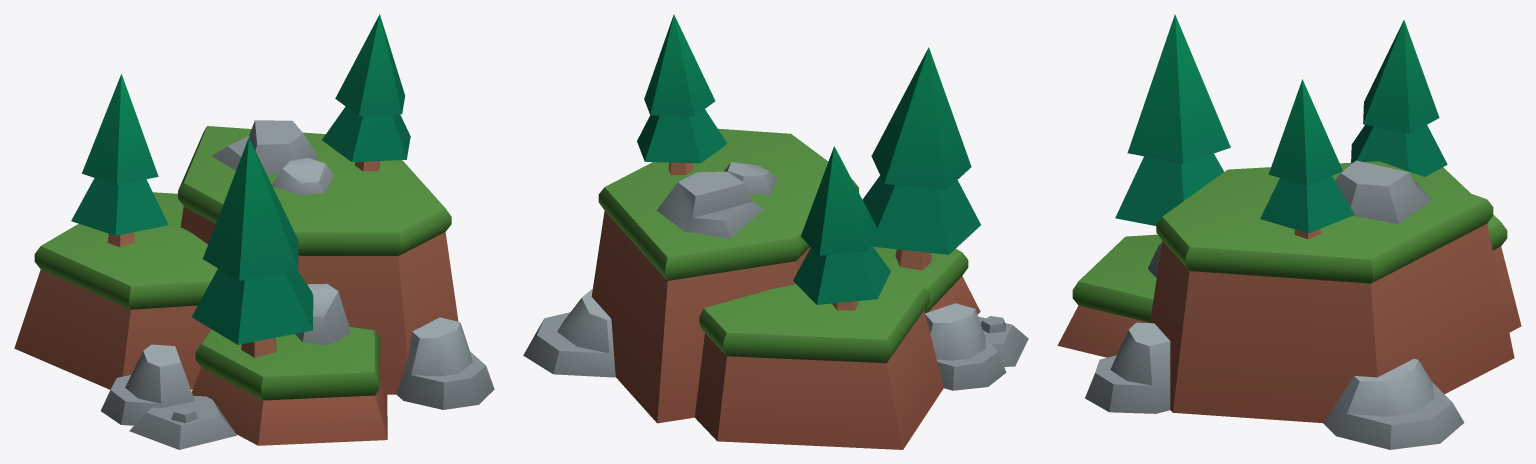
Rendered from hill_treed.glb.
3 views of the same model, side by side, from view 1: azimuth 30°, elevation 25°; view 2: azimuth 150°, elevation 25°; view 3: azimuth 270°, elevation 25° (orthographic). The views are drawn at different scales.
Parts seen in each view (by area): view 1: hill_treed; view 2: hill_treed; view 3: hill_treed.
Boxes of the visible parts, left/top/right/bottom form: hill_treed: left=14, top=14, right=494, bottom=449; hill_treed: left=523, top=14, right=1028, bottom=449; hill_treed: left=1057, top=14, right=1521, bottom=449.
Size of the model in its own units: 13.84 by 10.5 by 13.69.
1 material, 1 textured.
